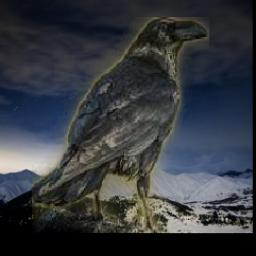Crow: (31, 17, 208, 233)
